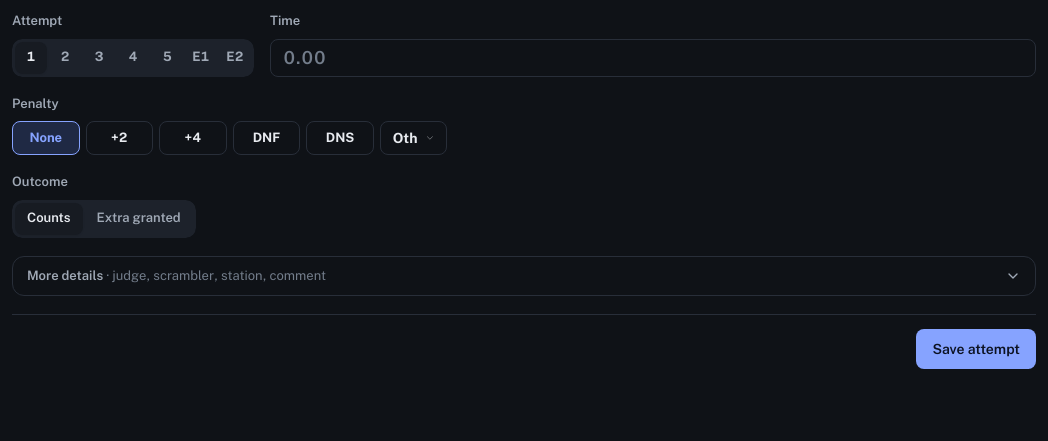
Test: AttemptForm › asks for a time instead of saving an empty counted attempt
The width and height of the screenshot is (1048, 441).
Click the button "Save attempt" at (976, 349), box top-left (916, 329), bottom-right (1036, 369)
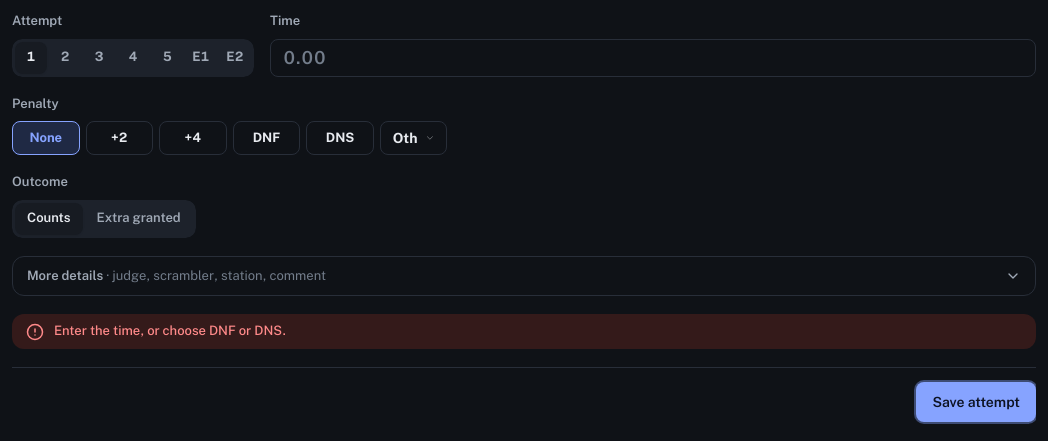
Expected: the message reads "Enter the time, or choose DNF or DNS.", top-left (54, 323), bottom-right (286, 338)
